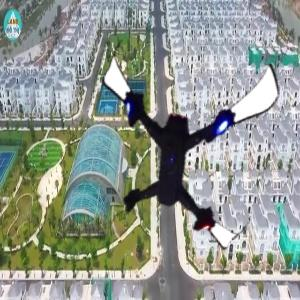drone: (77, 38, 276, 237)
